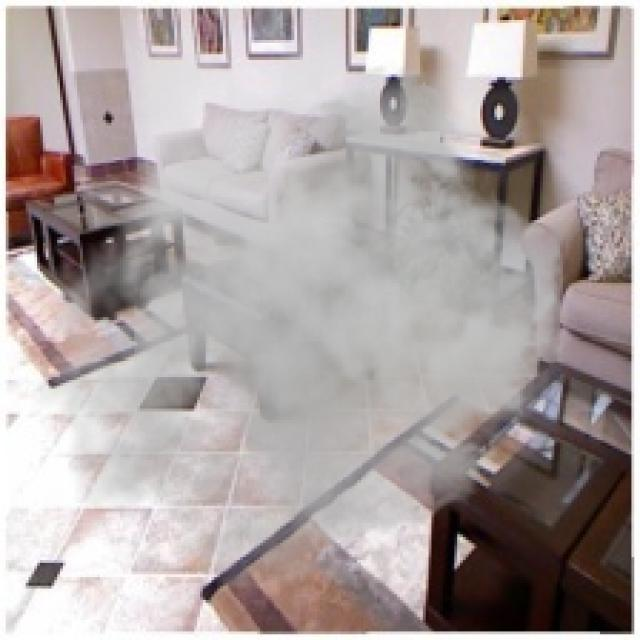Smoke: (31, 54, 583, 592)
